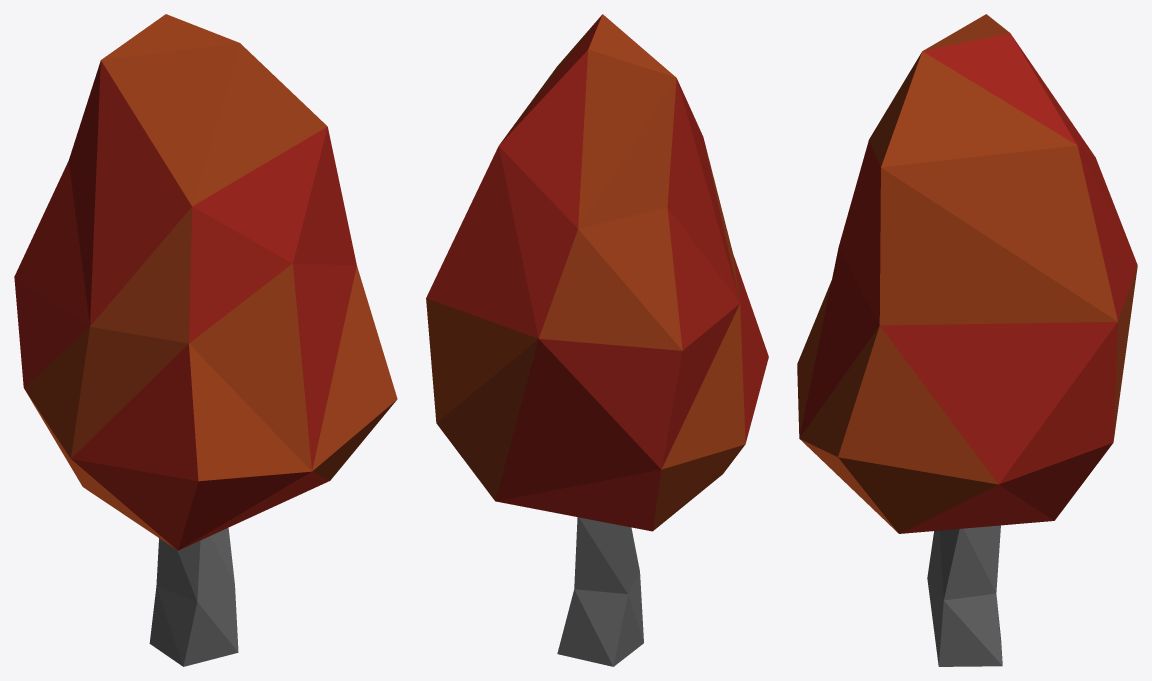
File: Tree1_M2_3_small.fbx
3 views of the same model, side by side, from view 1: azimuth 30°, elevation 25°; view 2: azimuth 150°, elevation 25°; view 3: azimuth 270°, elevation 25° (orthographic).
Visible parts, largest first — view 1: Tree1_M2_3_small; view 2: Tree1_M2_3_small; view 3: Tree1_M2_3_small.
Part boxes in pixels (x1=…): Tree1_M2_3_small: x1=14, y1=14, x2=397, y2=666; Tree1_M2_3_small: x1=426, y1=14, x2=768, y2=666; Tree1_M2_3_small: x1=797, y1=14, x2=1137, y2=666.
Size of the model in its own units: 78.76 by 165 by 82.6.
